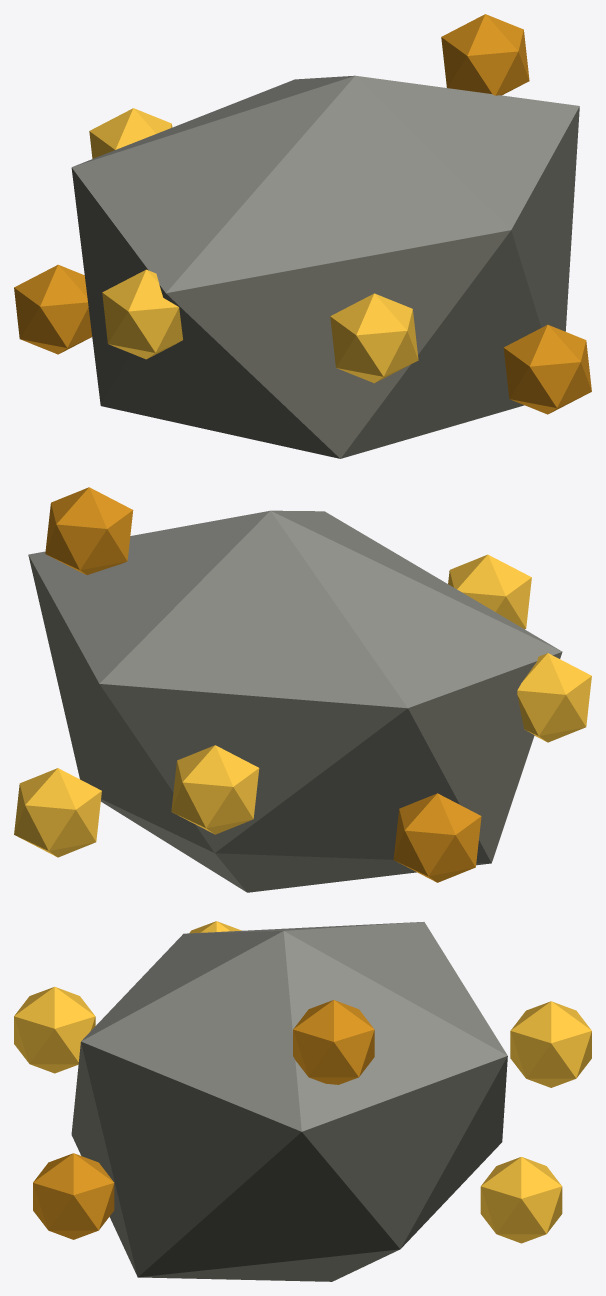
File: GoldOre.fbx
The picture shows the model from 3 angles, top to bottom: view 1: azimuth 30°, elevation 25°; view 2: azimuth 150°, elevation 25°; view 3: azimuth 270°, elevation 25°; orthographic projection. The views are drawn at different scales.
Parts seen in each view (by area): view 1: GoldOre; view 2: GoldOre; view 3: GoldOre.
Part boxes in pixels (x1,y1,x2,y2): GoldOre: (14,14,591,458); GoldOre: (14,487,591,892); GoldOre: (14,921,591,1281).
Size of the model in its own units: 3.84 by 2.63 by 3.86.
Materials: 1 (1 with a texture image).
